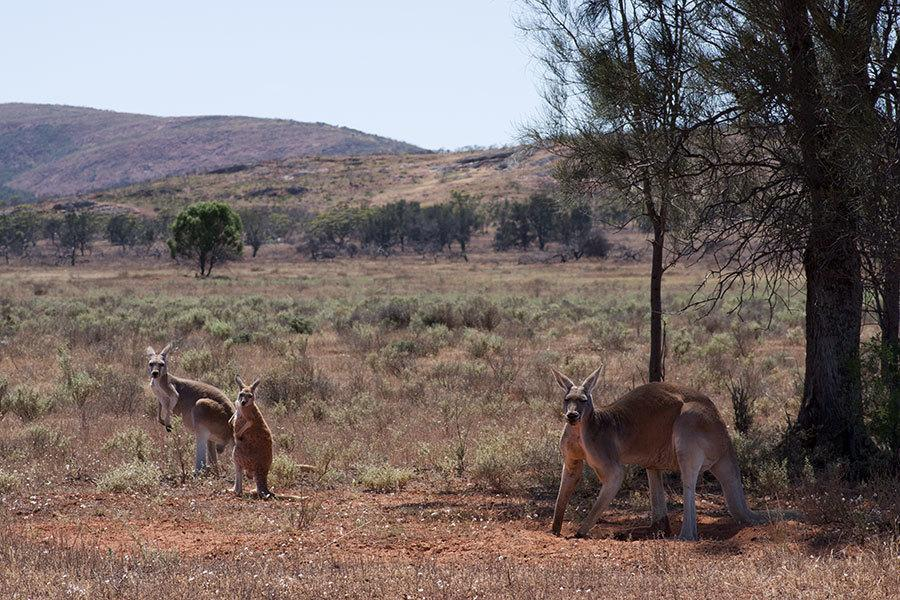Red kangaroo: (548, 366, 828, 543), (226, 372, 313, 507), (146, 343, 233, 478)
